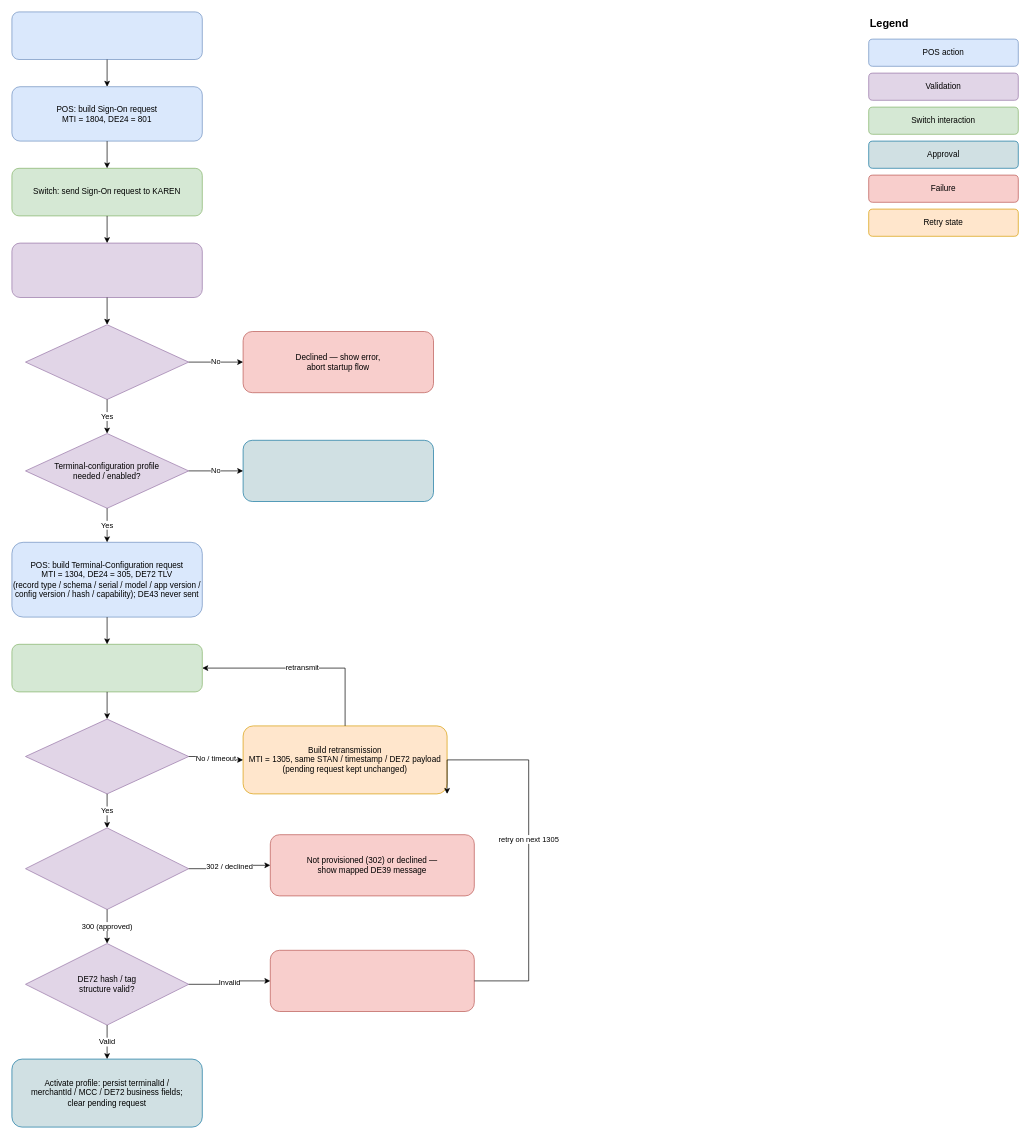
Some shapes in this 1030 by 1139 pixel diagram are drawn without their labels. The shapes that lost their labels are listed below. From the top down, each one's centre as x and y in pixels, then its label:
At [106,35]: "POS: app startup triggers Sign-On task".
At [106,270]: "Validation: switch validates terminal / session".
At [107,362]: "Sign-on approved?".
At [338,471]: "Already configured — use existing profile, ready for transactions".
At [106,668]: "Switch: send 1304 request to KAREN".
At [107,756]: "Response received before timeout?".
At [107,868]: "DE39 response code?".
At [372,981]: "Reject activation — keep previous profile; retry on next 1305 attempt".
